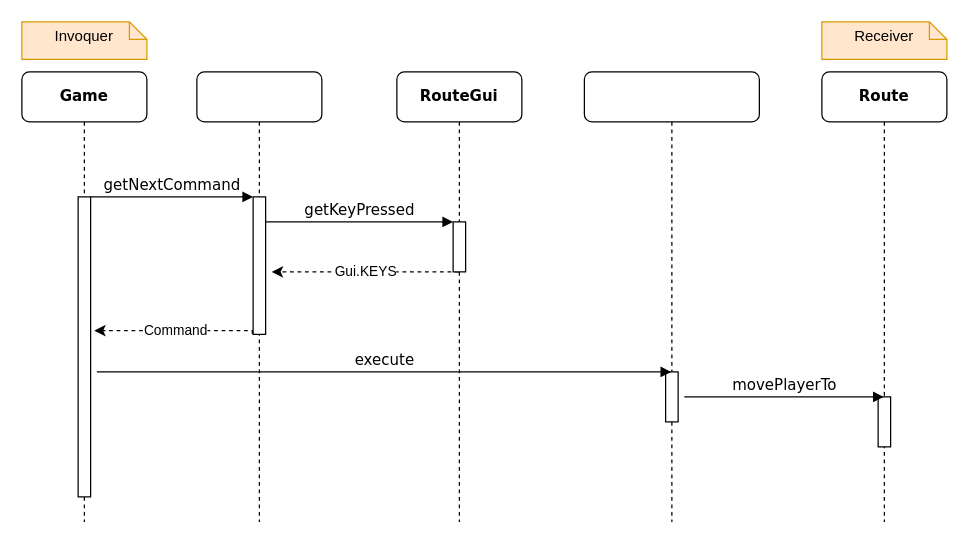
The diagram is 969 pixels wide and 544 high, and some of its shapes have lost their labels. Here are the shapes that lost their labels. From the top down, the box of each, then its label:
(196, 71, 322, 522): RouteState
(583, 71, 759, 522): MoveUpCommand
